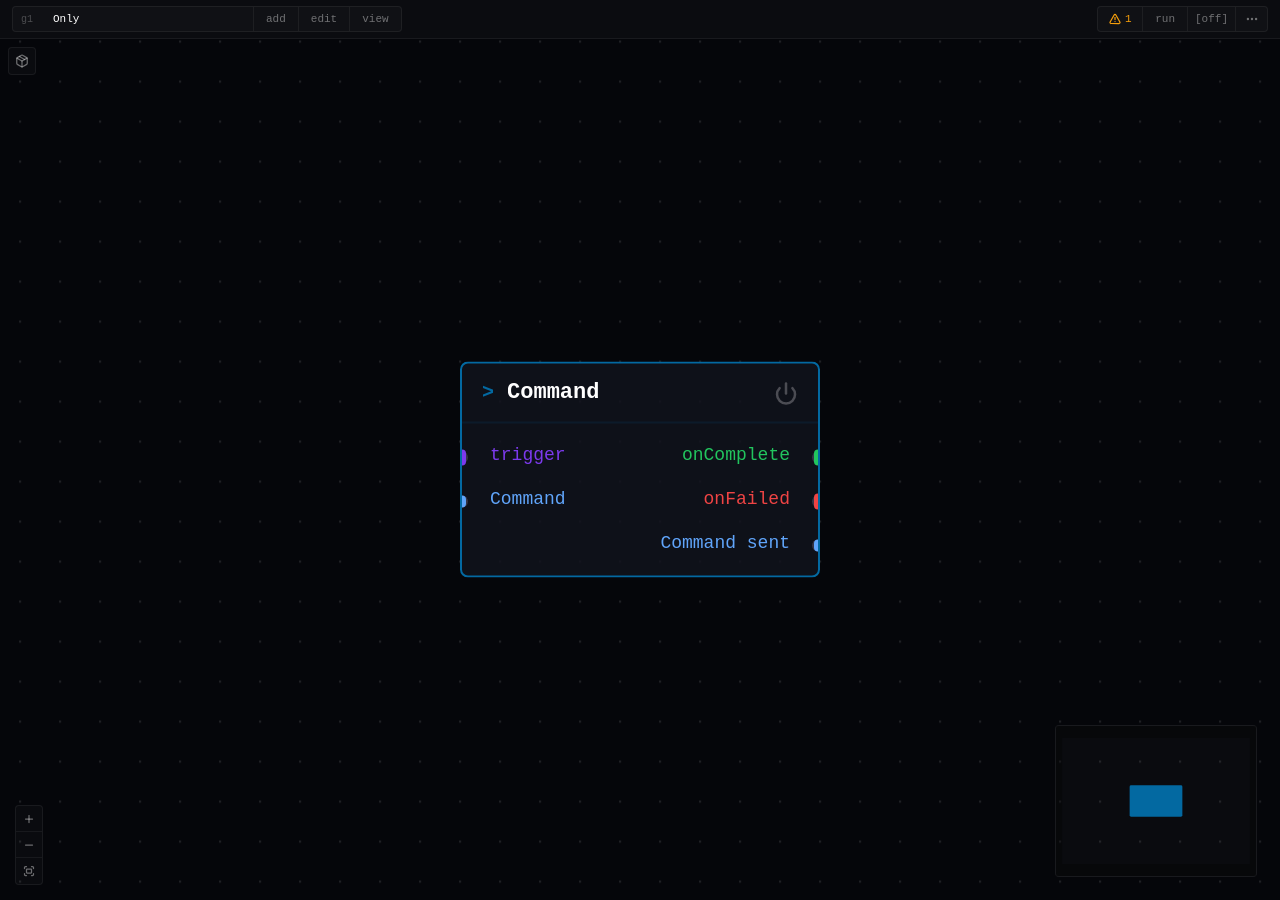
it: the scheduler editor warns about a stop › shows the answer beside Save and asks for the server it edits
Expected: the button "1" is shown, left=1098, top=7, right=1142, bottom=31
Never a gate: Save is still there and enabled.
Step 1. Click the button named "Graph actions" → (1252, 19), box left=1236, top=7, right=1267, bottom=31
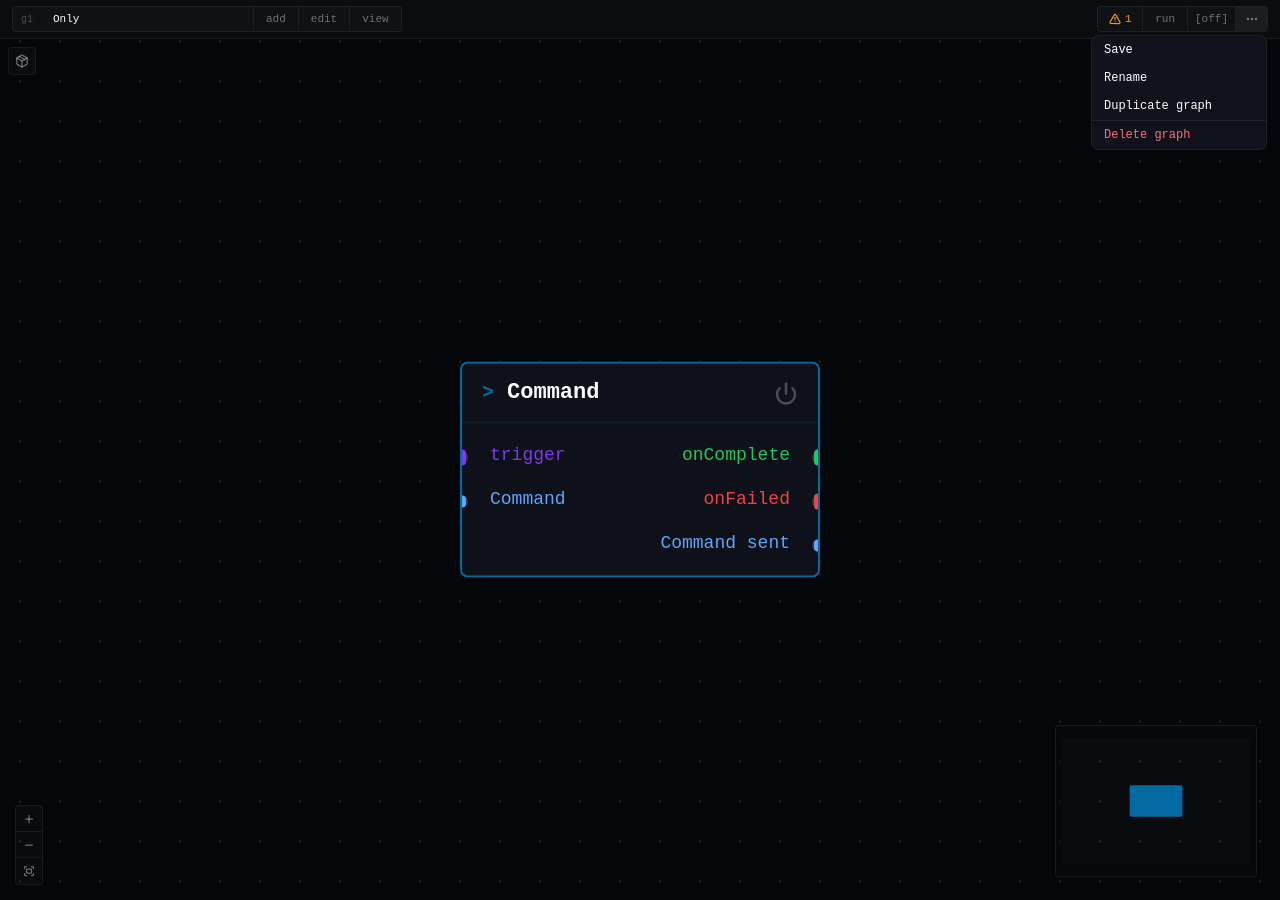
Now the button "Save" is enabled, box left=1092, top=36, right=1266, bottom=64
